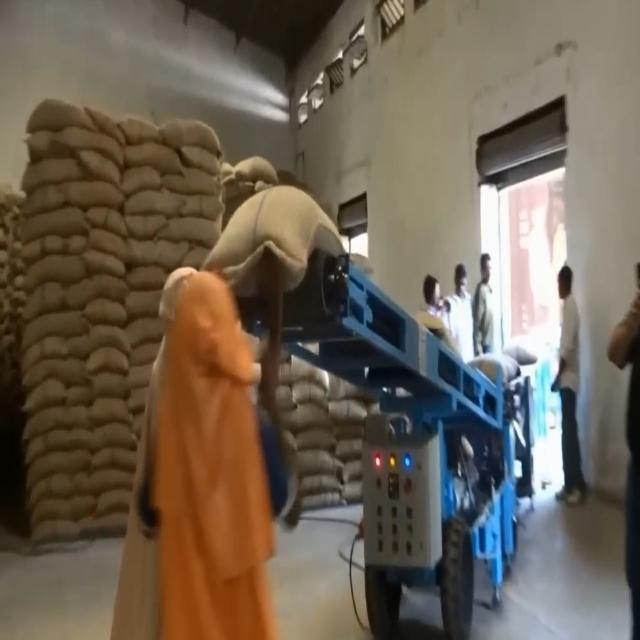gunny_bag: (202, 185, 352, 292)
